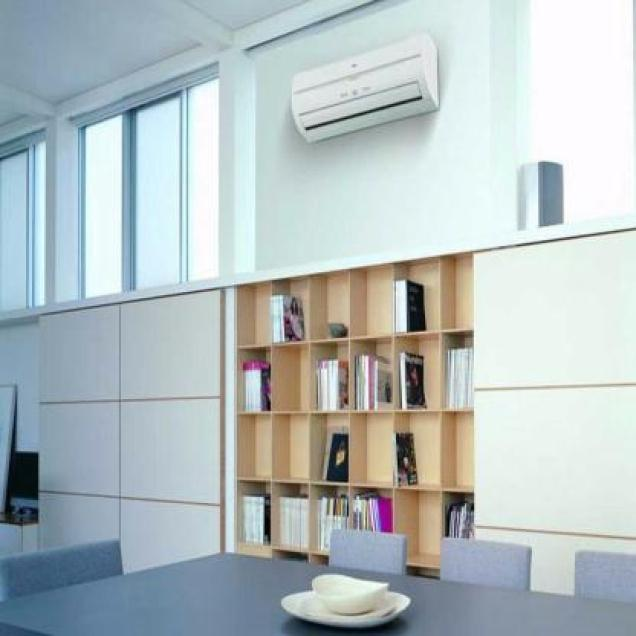Lemari: (289, 32, 437, 141)
Rak: (235, 250, 475, 582)
